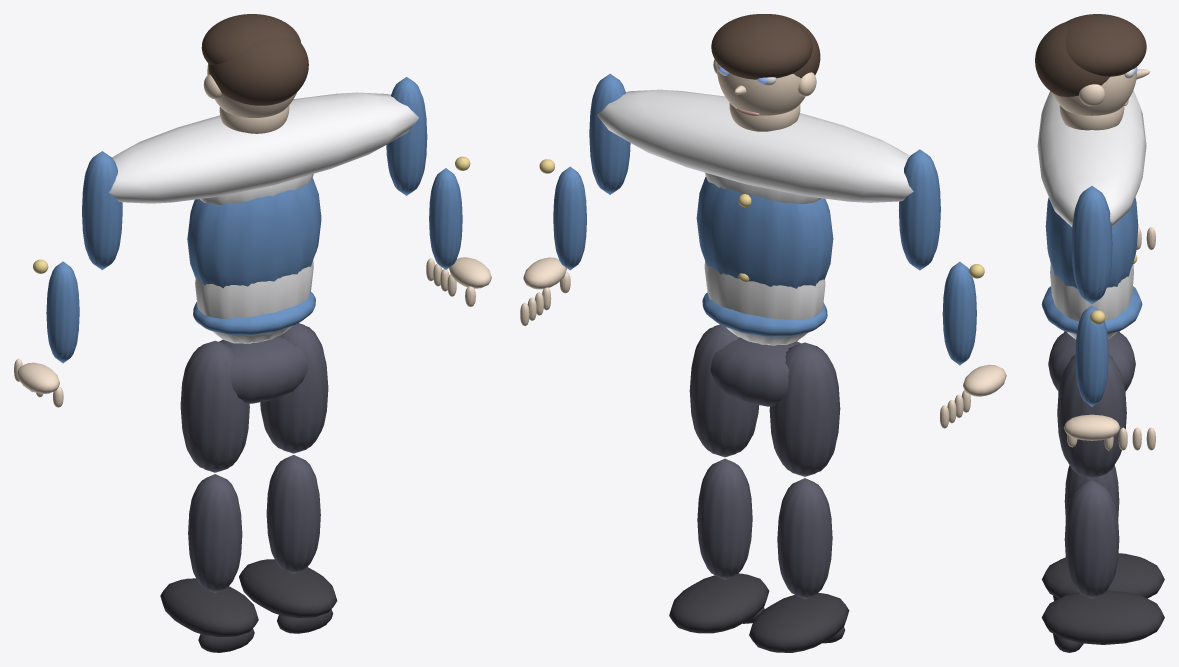
File: spectator_a.glb
The picture shows the model from 3 angles, left to right: view 1: azimuth 30°, elevation 25°; view 2: azimuth 150°, elevation 25°; view 3: azimuth 270°, elevation 25°; orthographic projection. The views are drawn at different scales.
Parts seen in each view (by area): view 1: Cube.004, Cylinder.008, Cylinder, Cylinder.001, Cylinder.003, Sphere.008, Cylinder.002, Cylinder.005, Cylinder.004, Cube, Cube.001, Cylinder.010 (+12 smaller); view 2: Cube.004, Cylinder.008, Cylinder, Cylinder.003, Cylinder.001, Sphere.009, Cylinder.002, Cylinder.005, Cube.001, Cube, Cylinder.004, Cylinder.010 (+9 smaller); view 3: Cube.004, Cylinder.003, Cube.001, Cylinder.002, Sphere.009, Cylinder.017, Cylinder.008, Sphere.008, Cube, Cylinder.018, Cylinder.005, Cylinder.004 (+7 smaller).
Part boxes in pixels (bbox=[...]): Cube.004: bbox=[108, 92, 418, 203]; Cylinder.008: bbox=[187, 178, 321, 288]; Cylinder: bbox=[180, 340, 249, 472]; Cylinder.001: bbox=[188, 474, 242, 593]; Cylinder.003: bbox=[266, 455, 320, 573]; Sphere.008: bbox=[208, 36, 308, 105]; Cylinder.002: bbox=[260, 323, 328, 453]; Cylinder.005: bbox=[195, 260, 313, 343]; Cylinder.004: bbox=[219, 336, 308, 403]; Cube: bbox=[160, 578, 258, 637]; Cube.001: bbox=[239, 559, 337, 617]; Cylinder.010: bbox=[82, 151, 122, 269]; Cube.004: bbox=[597, 89, 913, 202]; Cylinder.008: bbox=[696, 177, 833, 288]; Cylinder: bbox=[769, 342, 840, 476]; Cylinder.003: bbox=[697, 458, 752, 579]; Cylinder.001: bbox=[777, 478, 832, 599]; Sphere.009: bbox=[711, 14, 812, 79]; Cylinder.002: bbox=[689, 324, 759, 457]; Cylinder.005: bbox=[704, 261, 825, 345]; Cube.001: bbox=[669, 573, 769, 633]; Cube: bbox=[749, 593, 849, 652]; Cylinder.004: bbox=[710, 337, 800, 406]; Cylinder.010: bbox=[898, 149, 940, 270]; Cube.004: bbox=[1037, 90, 1146, 226]; Cylinder.003: bbox=[1064, 480, 1119, 598]; Cube.001: bbox=[1041, 590, 1164, 644]; Cylinder.002: bbox=[1057, 354, 1126, 478]; Sphere.009: bbox=[1065, 14, 1146, 76]; Cylinder.017: bbox=[1071, 186, 1112, 304]; Cylinder.008: bbox=[1045, 197, 1138, 288]; Sphere.008: bbox=[1035, 22, 1110, 96]; Cube: bbox=[1042, 553, 1164, 598]; Cylinder.018: bbox=[1075, 305, 1108, 406]; Cylinder.005: bbox=[1050, 263, 1133, 339]; Cylinder.004: bbox=[1048, 331, 1135, 391].
Bounding box in the file's own units: 2.04 × 2.56 × 0.4971.
